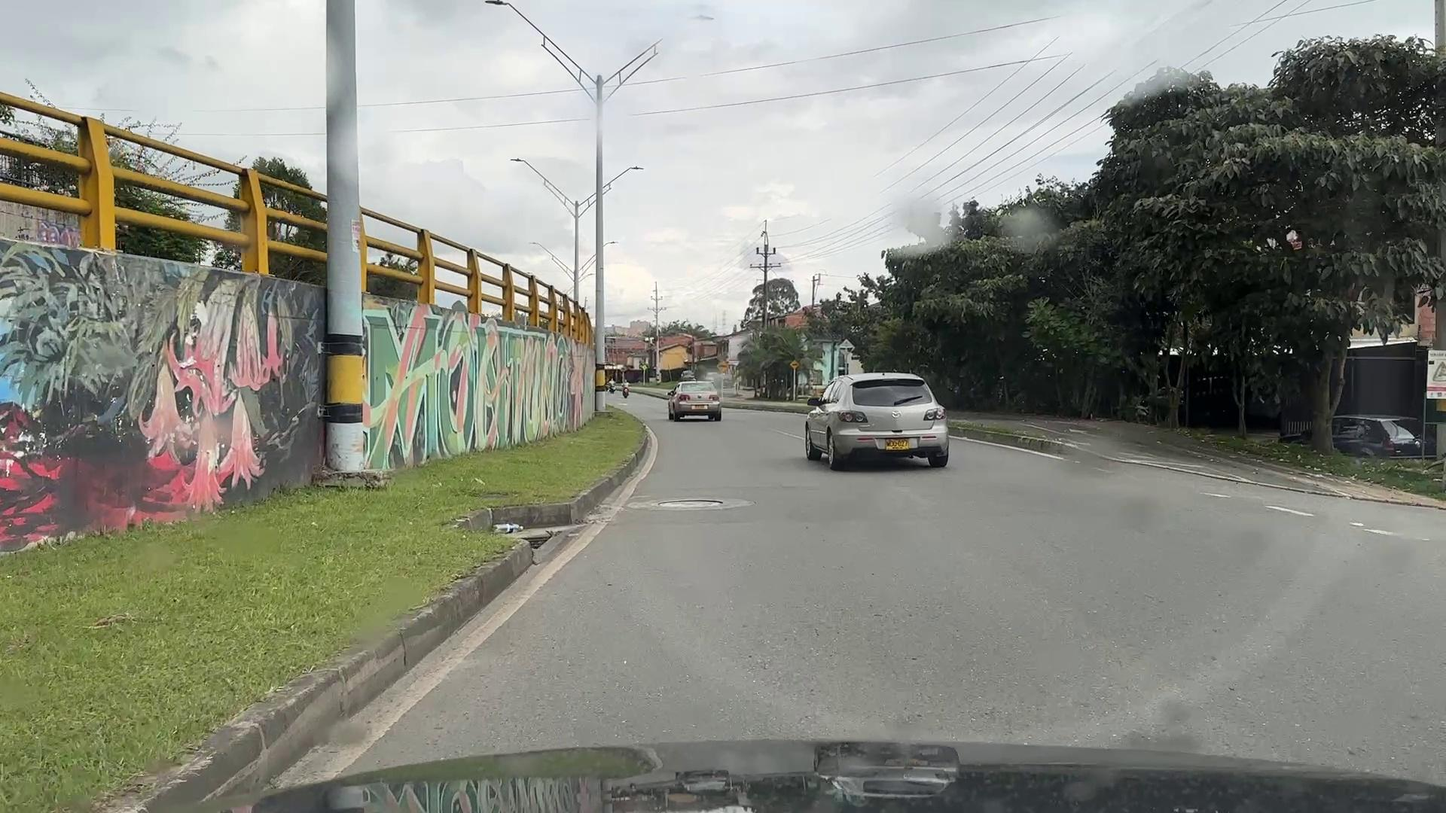registro: (658, 500, 723, 507)
rejilla: (521, 535, 553, 548)
